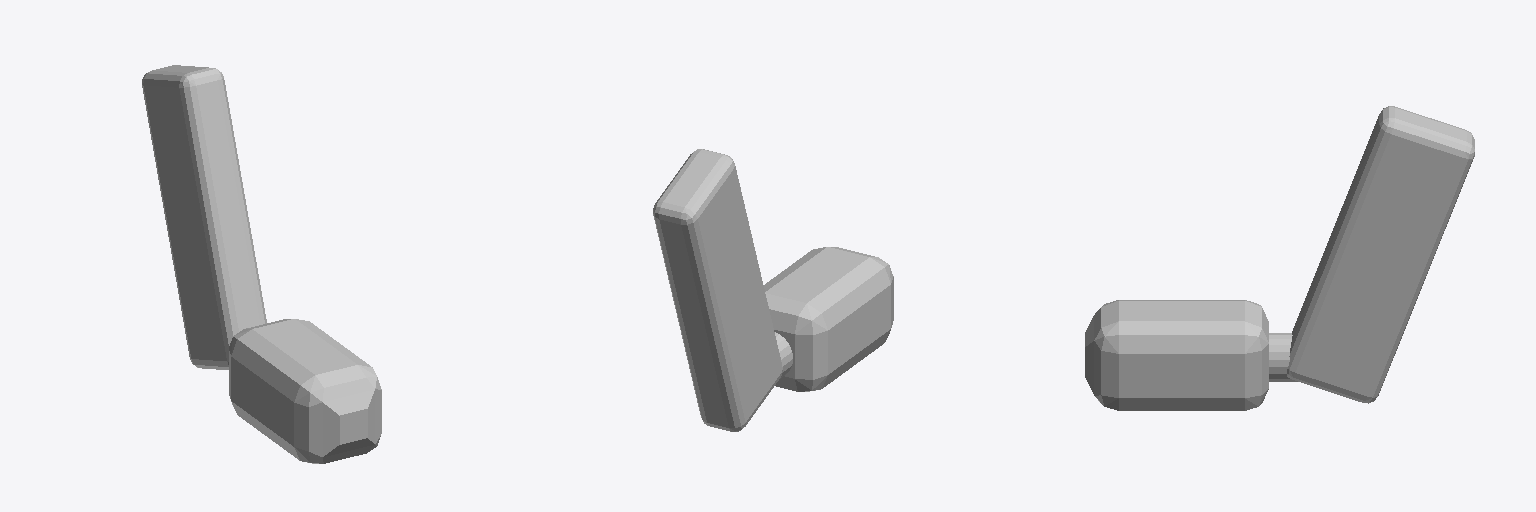
Rendered from Drone_rightlowerarm.obj.
3 views of the same model, side by side, from view 1: azimuth 30°, elevation 25°; view 2: azimuth 150°, elevation 25°; view 3: azimuth 270°, elevation 25° (orthographic).
Visible parts, largest first — view 1: Left_Upper_Arm1, Left_Upper_Arm1 Left_Elbow Left_Hand; view 2: Left_Upper_Arm1, Left_Upper_Arm1 Left_Elbow Left_Hand; view 3: Left_Upper_Arm1, Left_Upper_Arm1 Left_Elbow Left_Hand, Left_Upper_Arm1 Left_Elbow.
Boxes of the visible parts, <box> form: Left_Upper_Arm1: <box>142,65,266,369</box>; Left_Upper_Arm1 Left_Elbow Left_Hand: <box>229,319,381,463</box>; Left_Upper_Arm1: <box>653,149,782,431</box>; Left_Upper_Arm1 Left_Elbow Left_Hand: <box>764,247,893,391</box>; Left_Upper_Arm1: <box>1287,106,1474,403</box>; Left_Upper_Arm1 Left_Elbow Left_Hand: <box>1085,300,1268,410</box>; Left_Upper_Arm1 Left_Elbow: <box>1269,333,1297,381</box>.
Size of the model in its own units: 1 by 3.24 by 3.98.